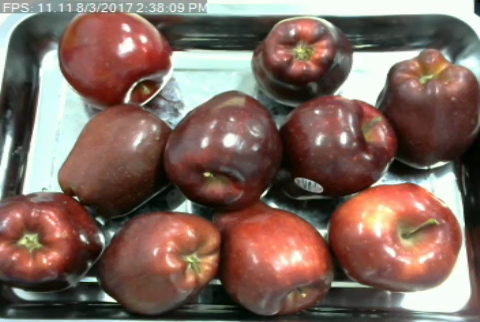Apple: (326, 180, 467, 294), (159, 88, 284, 212), (210, 197, 337, 319), (55, 101, 177, 220), (94, 208, 226, 316), (373, 44, 480, 175), (278, 91, 398, 200), (56, 6, 178, 110), (0, 187, 109, 297), (248, 11, 356, 108)
